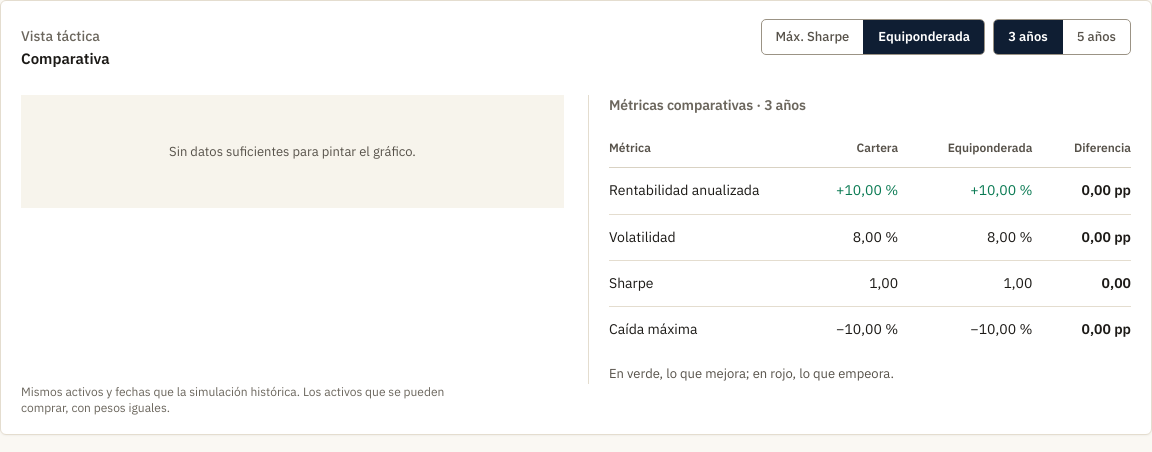
Vista táctica cuando no hay máximo Sharpe, o no hay simulación › si el asesor pide Máx. Sharpe, el motivo sale como aviso y no como párrafo suelto
The image size is (1152, 452).
Click the button "Máx. Sharpe": (812, 37) [762,20,863,54]
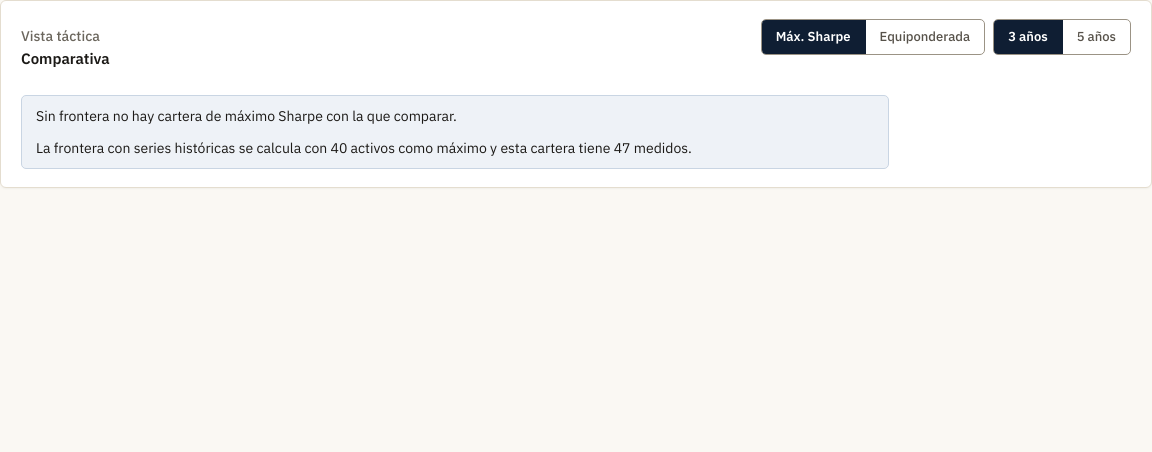
Expected: the table with class "backtest-metrics-table" is gone
